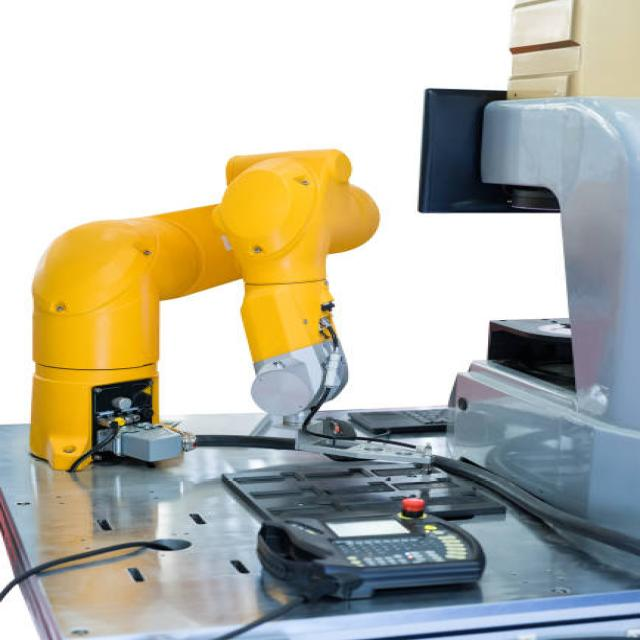Robotic-arm: (21, 136, 367, 472)
